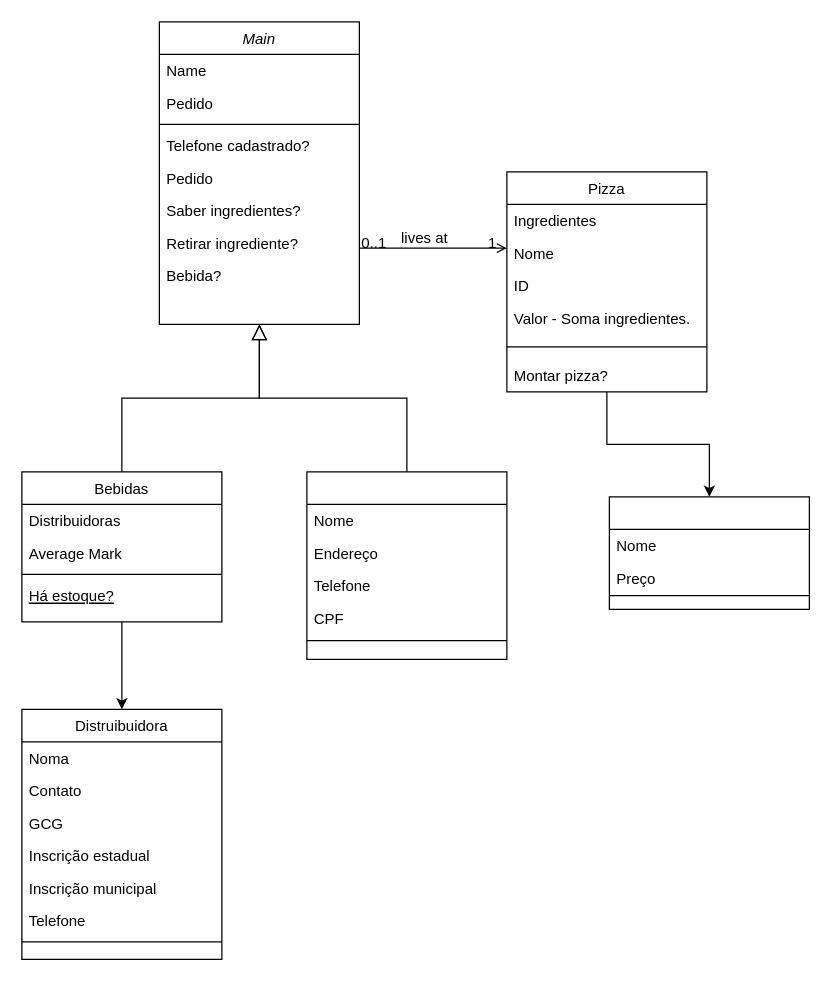
The diagram is 831 pixels wide and 981 high, and some of its shapes have lost their labels. Each missing label, with the box of its shape:
Cliente: (306, 471, 507, 659)
Ingrediente: (608, 496, 809, 609)
